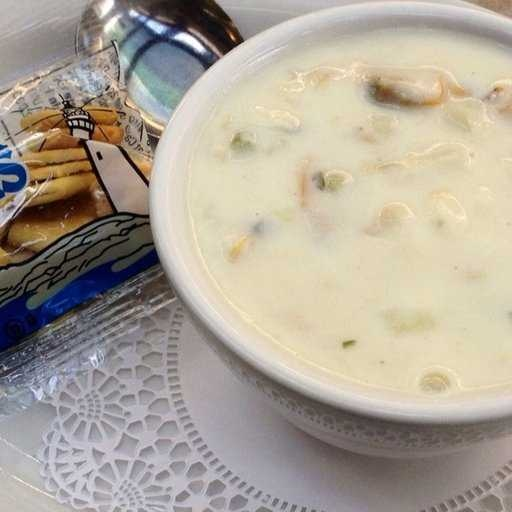soup: (188, 35, 512, 421)
